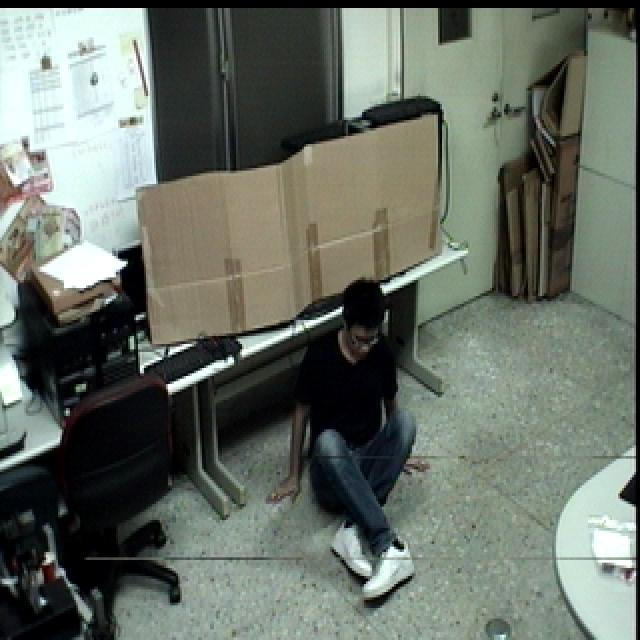sit: (263, 278, 434, 609)
